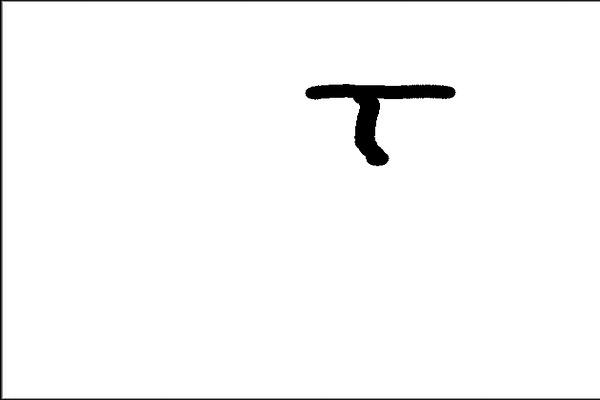T: (291, 74, 462, 167)
